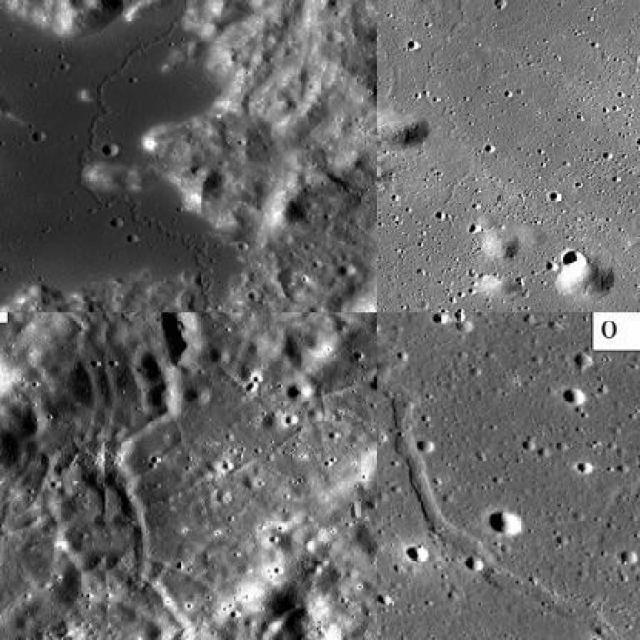rille: (74, 6, 346, 311), (377, 346, 638, 639), (0, 312, 200, 638), (377, 0, 585, 311)
